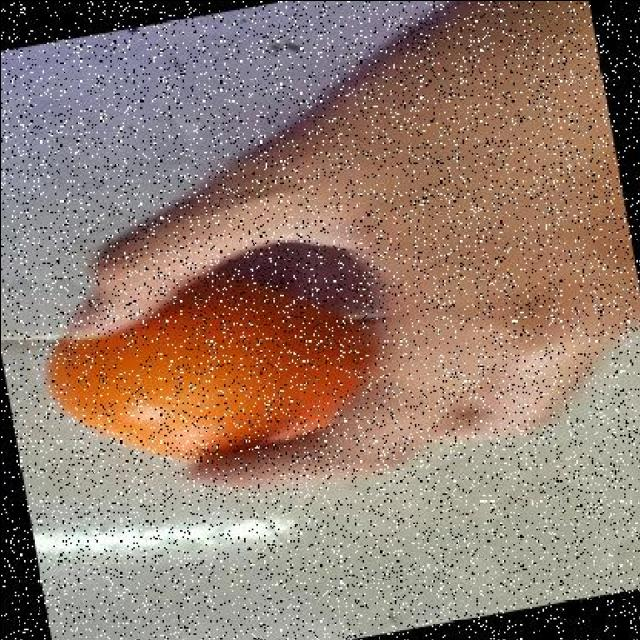Orange: (44, 274, 380, 464)
